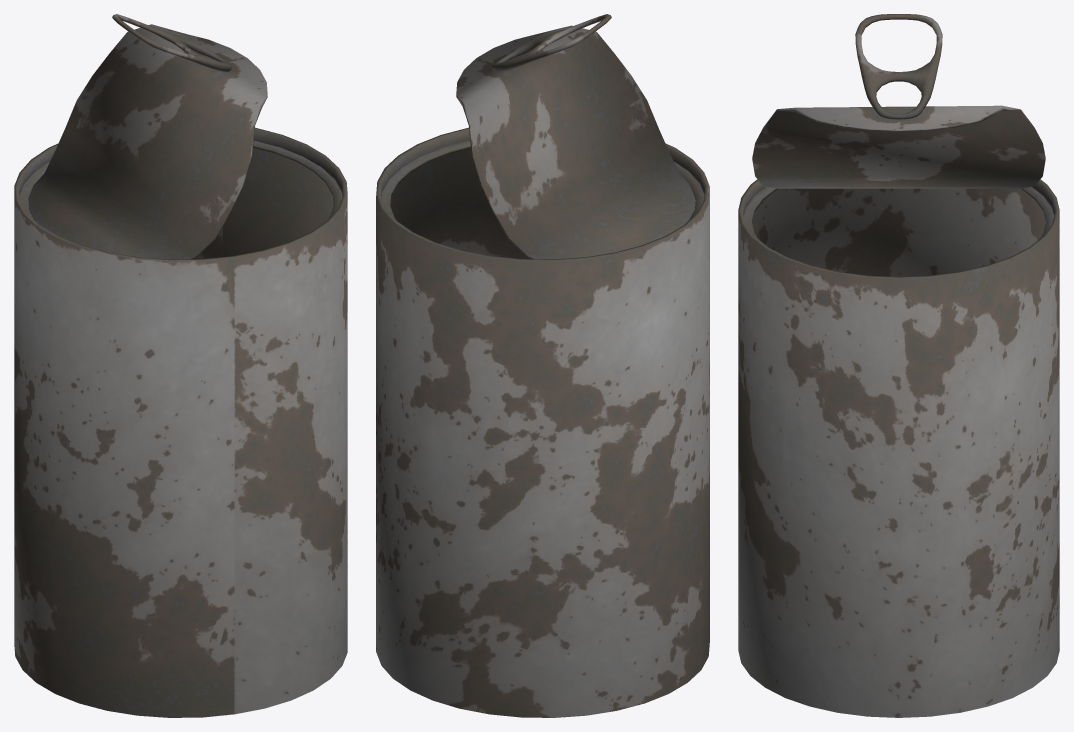
File: Konservendose.glb
The picture shows the model from 3 angles, left to right: view 1: azimuth 30°, elevation 25°; view 2: azimuth 150°, elevation 25°; view 3: azimuth 270°, elevation 25°; orthographic projection. The views are drawn at different scales.
Visible parts, largest first — view 1: Dose_Cylinder, Deckel_Cube, Henkel_Cube_001; view 2: Dose_Cylinder, Deckel_Cube, Henkel_Cube_001; view 3: Dose_Cylinder, Deckel_Cube, Henkel_Cube_001.
Boxes of the visible parts, bbox=[...] form: Dose_Cylinder: bbox=[14, 127, 347, 717]; Deckel_Cube: bbox=[28, 24, 267, 259]; Henkel_Cube_001: bbox=[112, 14, 231, 71]; Dose_Cylinder: bbox=[376, 127, 709, 717]; Deckel_Cube: bbox=[456, 25, 695, 259]; Henkel_Cube_001: bbox=[492, 14, 611, 71]; Dose_Cylinder: bbox=[738, 179, 1059, 717]; Deckel_Cube: bbox=[752, 105, 1045, 188]; Henkel_Cube_001: bbox=[855, 14, 942, 119].
Bounding box in the file's own units: 0.109 × 0.2282 × 0.109.
1 material, 1 textured.
